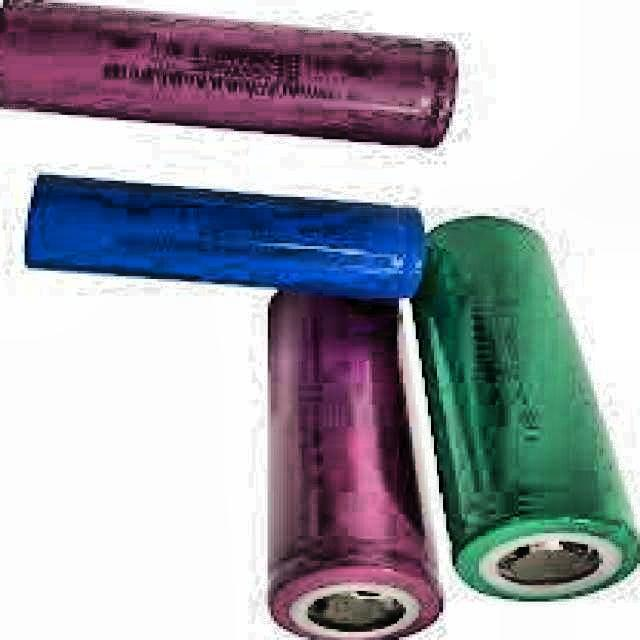Non-Valuable Waste - Batteries: (415, 219, 640, 602), (0, 0, 458, 148), (274, 295, 440, 640), (28, 178, 425, 298)
